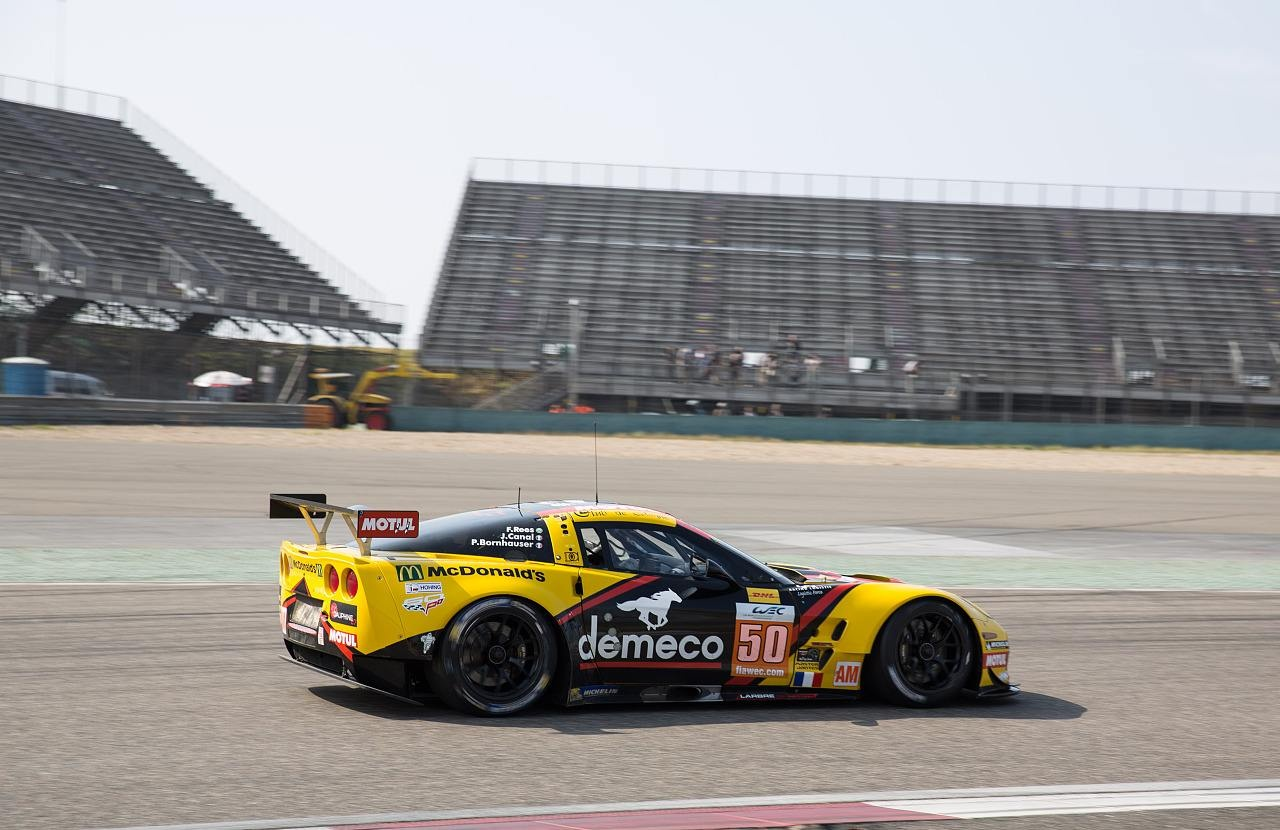racing car: (248, 456, 1063, 756)
